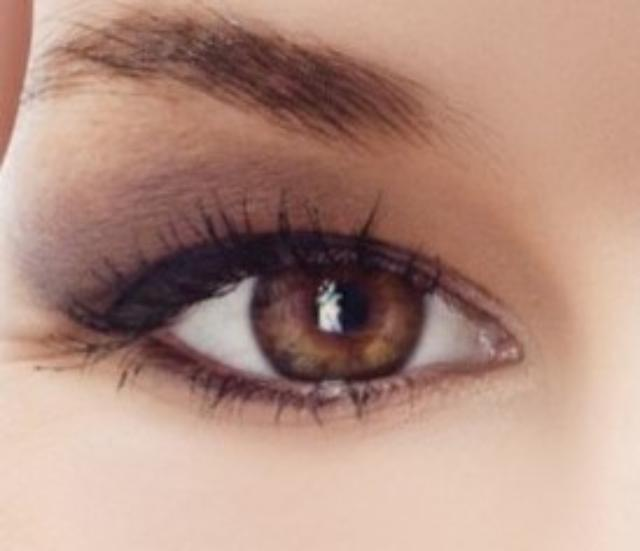eye: (248, 234, 430, 388)
